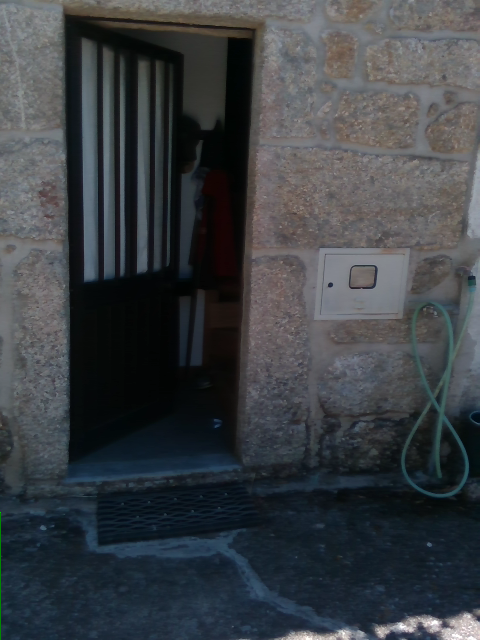semi: (62, 9, 268, 474)
